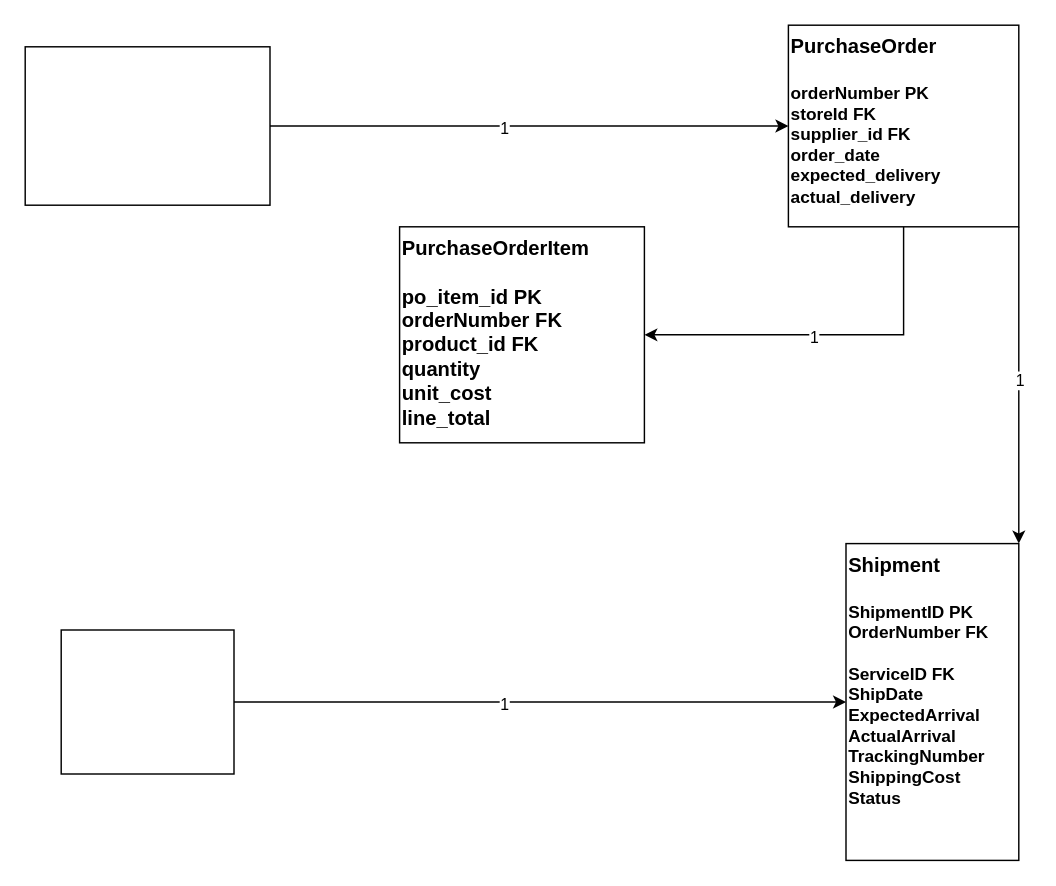
The diagram is 1056 pixels wide and 886 high, and some of its shapes have lost their labels. The shapes that lost their labels are listed below. From the top down, each one's centre as x and y in pixels, then its label:
At pixel 147 125: "Supplier supplier_id PK name city rating".
At pixel 147 701: "DeliveryService ServiceID (PK) Name DeliveryType".
